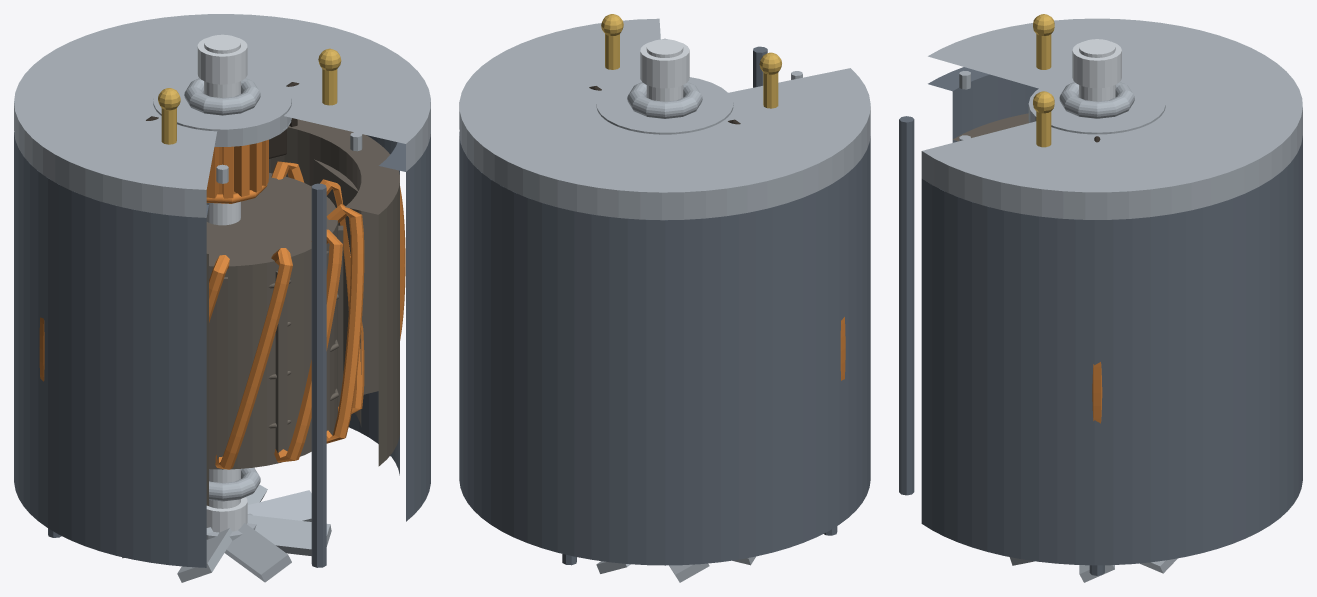
File: electric_motor.glb
3 renders of one model, left to right at view 1: azimuth 30°, elevation 25°; view 2: azimuth 150°, elevation 25°; view 3: azimuth 270°, elevation 25°, orthographic.
Parts seen in each view (by area): view 1: housing, end_cap, armature, stator, armature_windings, fan, shaft, commutator, bearings, terminals, field_windings, brushes; view 2: housing, end_cap, shaft, terminals, bearings, fan; view 3: housing, end_cap, shaft, terminals, bearings, stator, fan, field_windings.
Boxes of the visible parts, x1,y1,x2,y2 form: housing: (14, 130, 430, 567); end_cap: (14, 14, 430, 217); armature: (206, 173, 343, 469); stator: (206, 119, 399, 505); armature_windings: (209, 161, 364, 469); fan: (122, 484, 331, 582); shaft: (197, 34, 247, 532); commutator: (206, 139, 268, 203); bearings: (184, 78, 260, 501); terminals: (158, 48, 341, 144); field_windings: (39, 186, 405, 381); brushes: (146, 82, 299, 158); housing: (459, 46, 870, 565); end_cap: (459, 18, 870, 220); shaft: (640, 39, 689, 101); terminals: (601, 14, 781, 108); bearings: (627, 82, 702, 118); fan: (596, 556, 755, 582); housing: (899, 67, 1302, 575); end_cap: (921, 18, 1302, 219); shaft: (1072, 39, 1121, 101); terminals: (1033, 14, 1054, 147); bearings: (1059, 82, 1134, 118); stator: (953, 113, 1028, 141); fan: (1009, 557, 1177, 582); field_windings: (1092, 362, 1102, 423).
Bounding box in the file's own units: 1.08 × 1.42 × 1.06.
